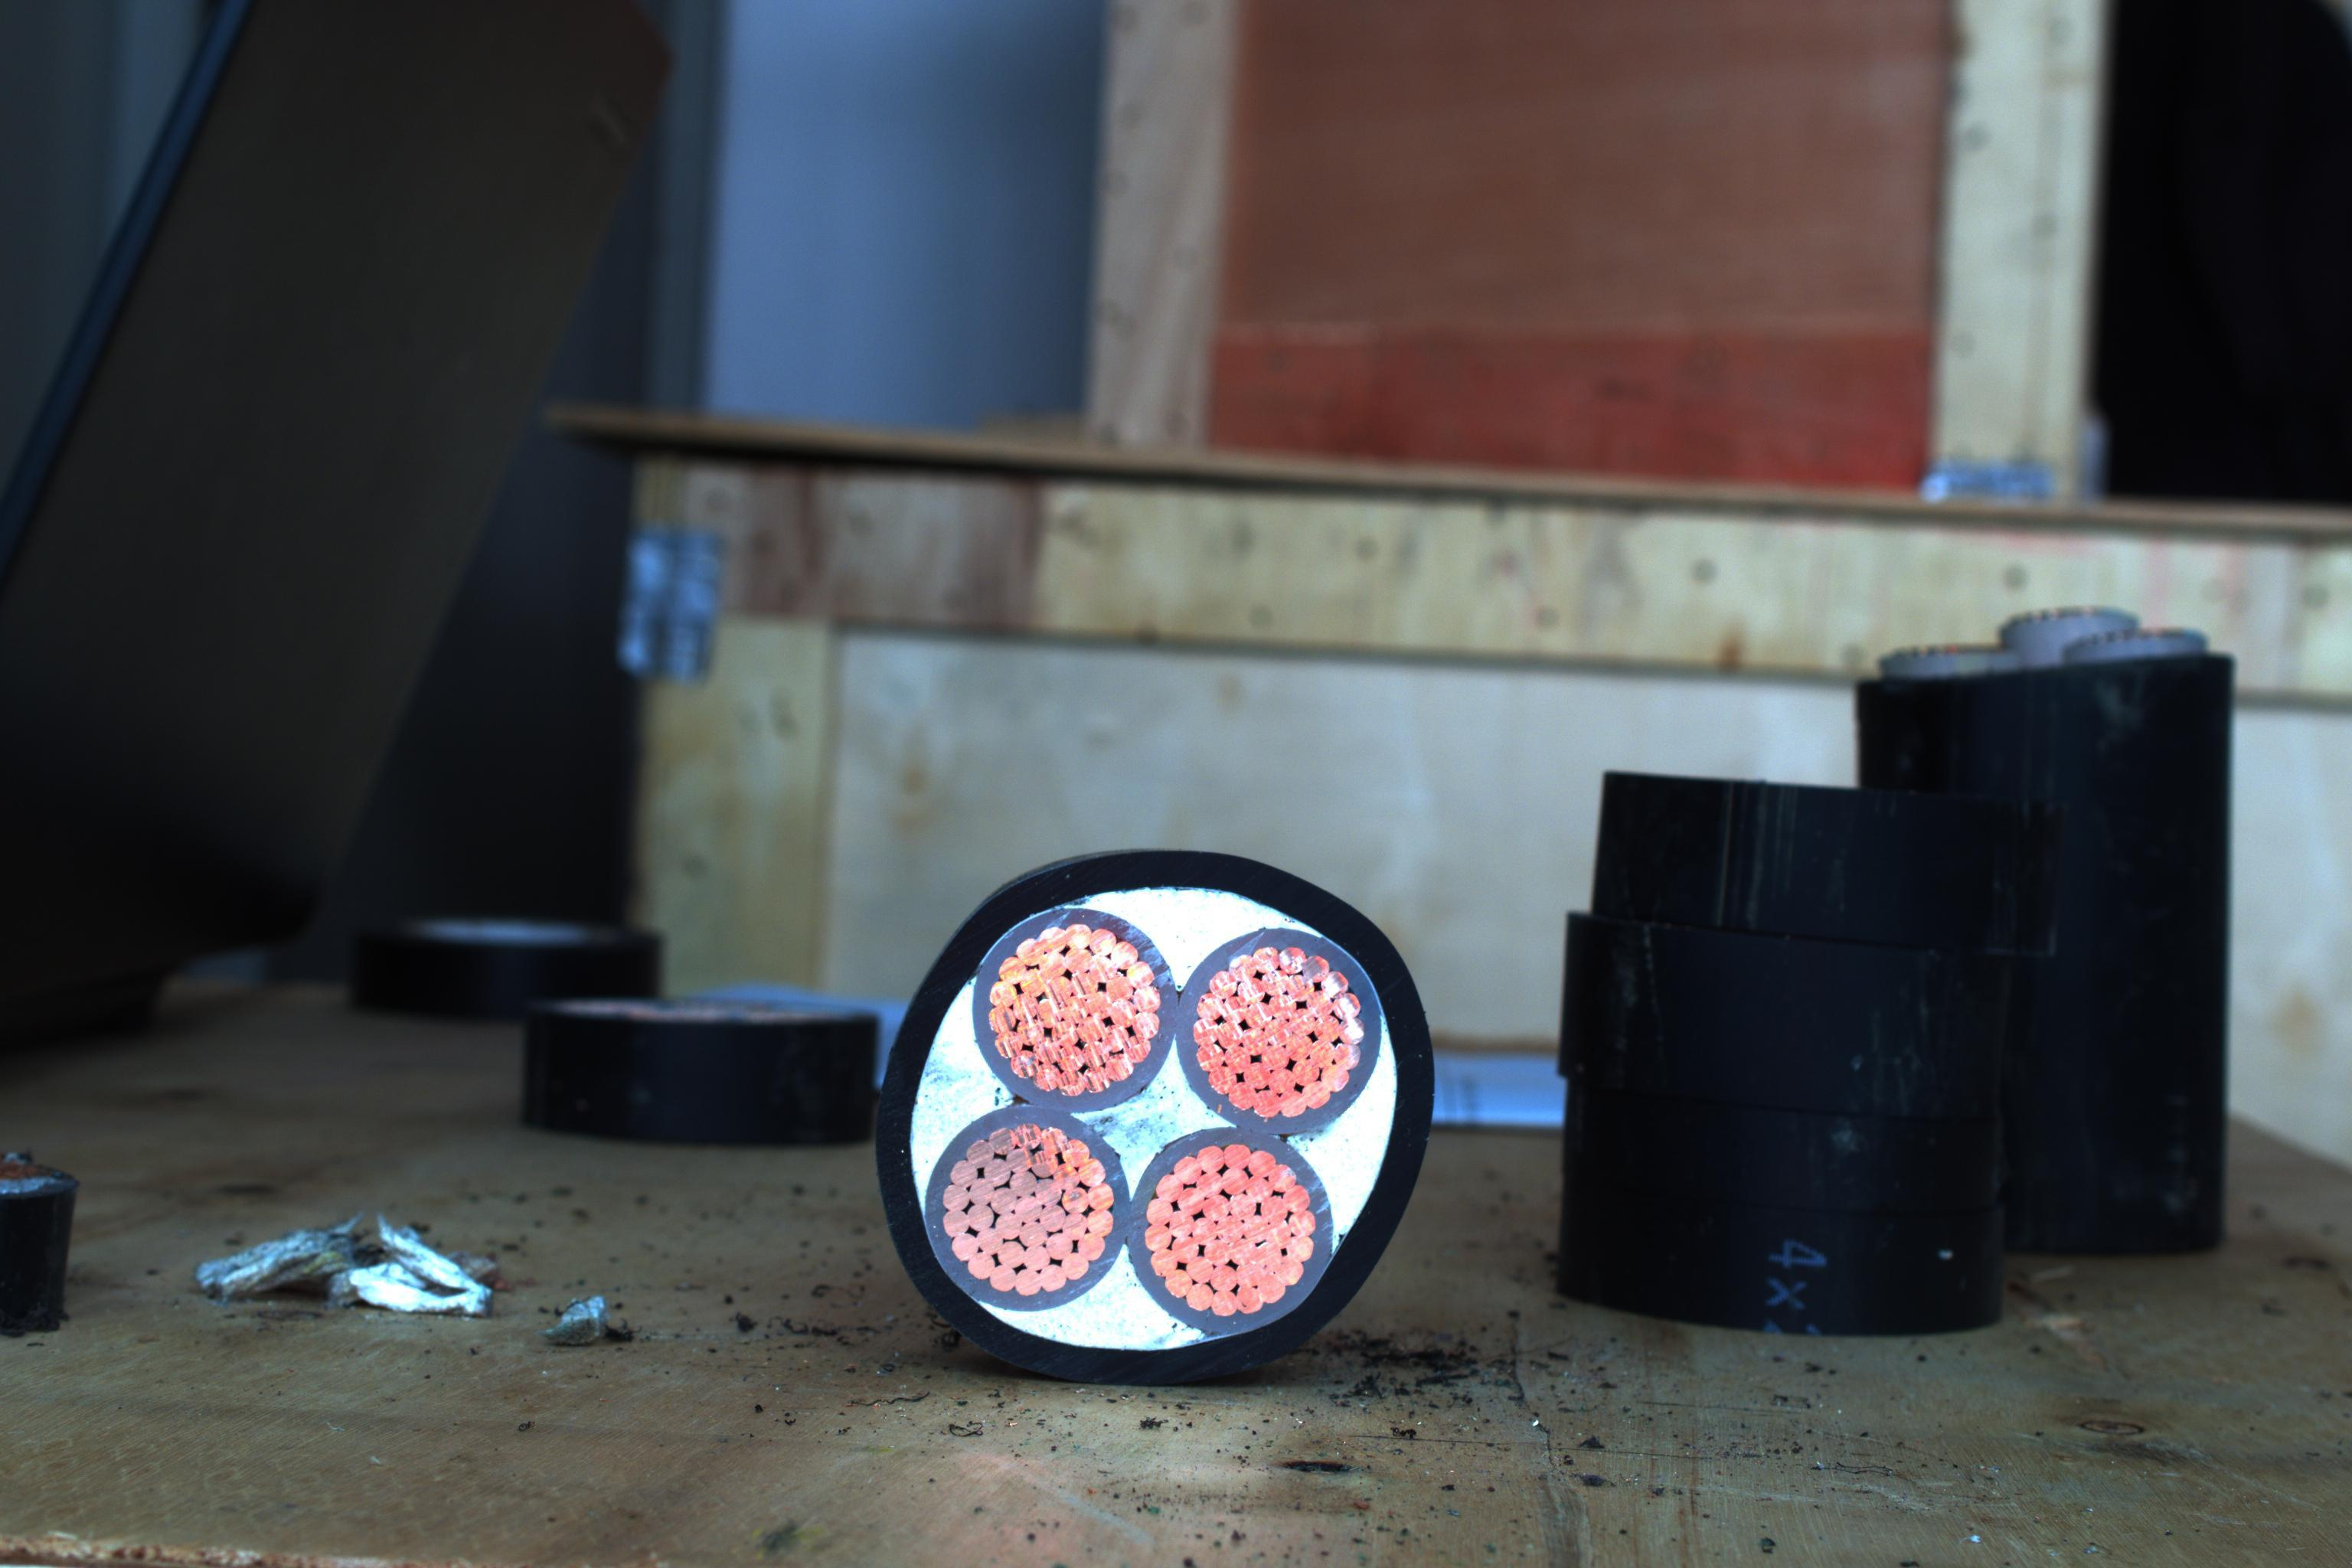YJV_0.6_1kV_4x240: (875, 864, 1419, 1370)
